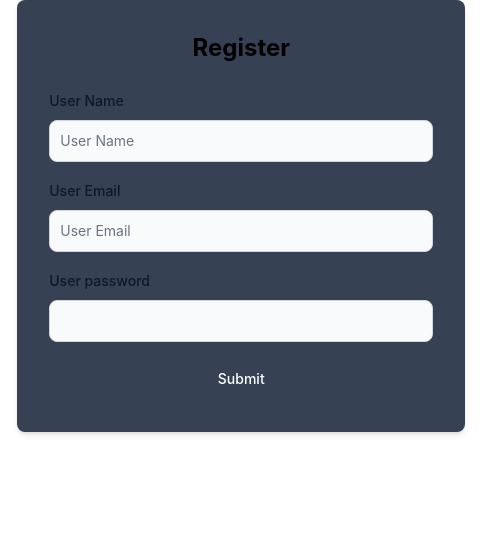
RegisterPage › submits the form and displays success message
This screenshot has width=483, height=549.
Simulate user input
Type "test-username" into the field named "User name input" at coordinates (241, 141), box top-left (49, 120), bottom-right (433, 162)
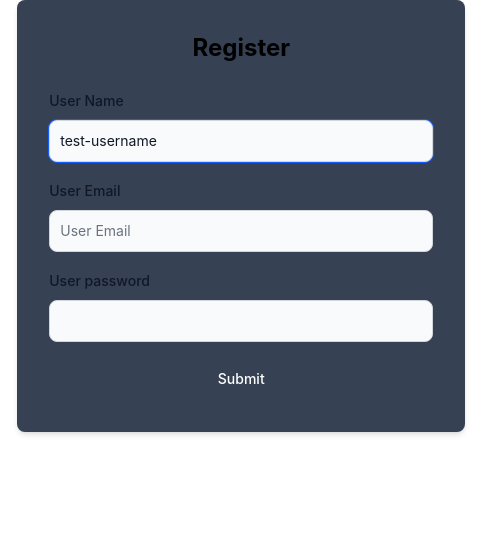
Type "test@example.com" into the field named "Email input" at coordinates (241, 231), box top-left (49, 210), bottom-right (433, 252)
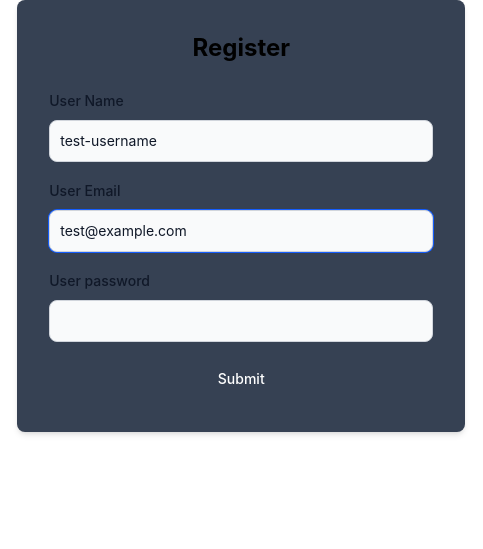
Type "password" into the password field named "Password input" at coordinates (241, 321), box top-left (49, 300), bottom-right (433, 342)
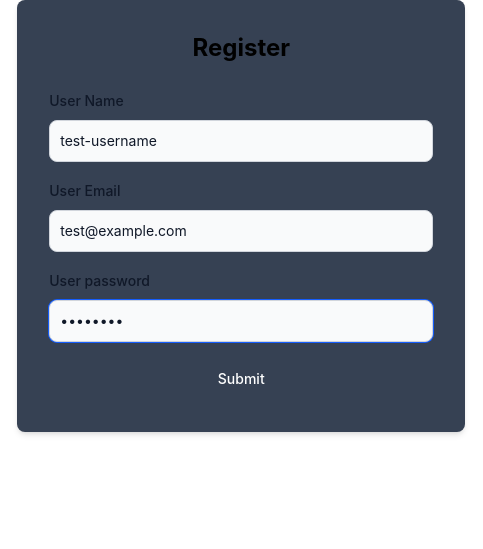
Click the button "Submit" at coordinates (241, 379), box top-left (49, 358), bottom-right (433, 400)
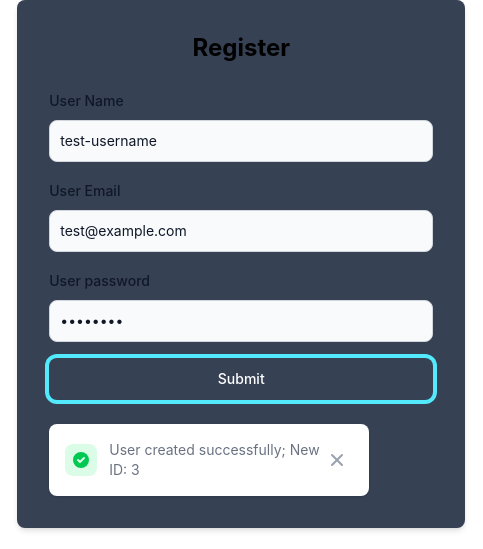
Result: the text "User created successfully; New ID: 3" is shown at top-left (109, 440), bottom-right (321, 480)
